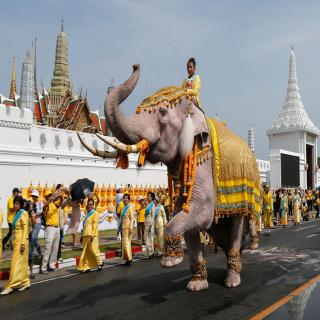Elephant: (75, 58, 272, 302)
